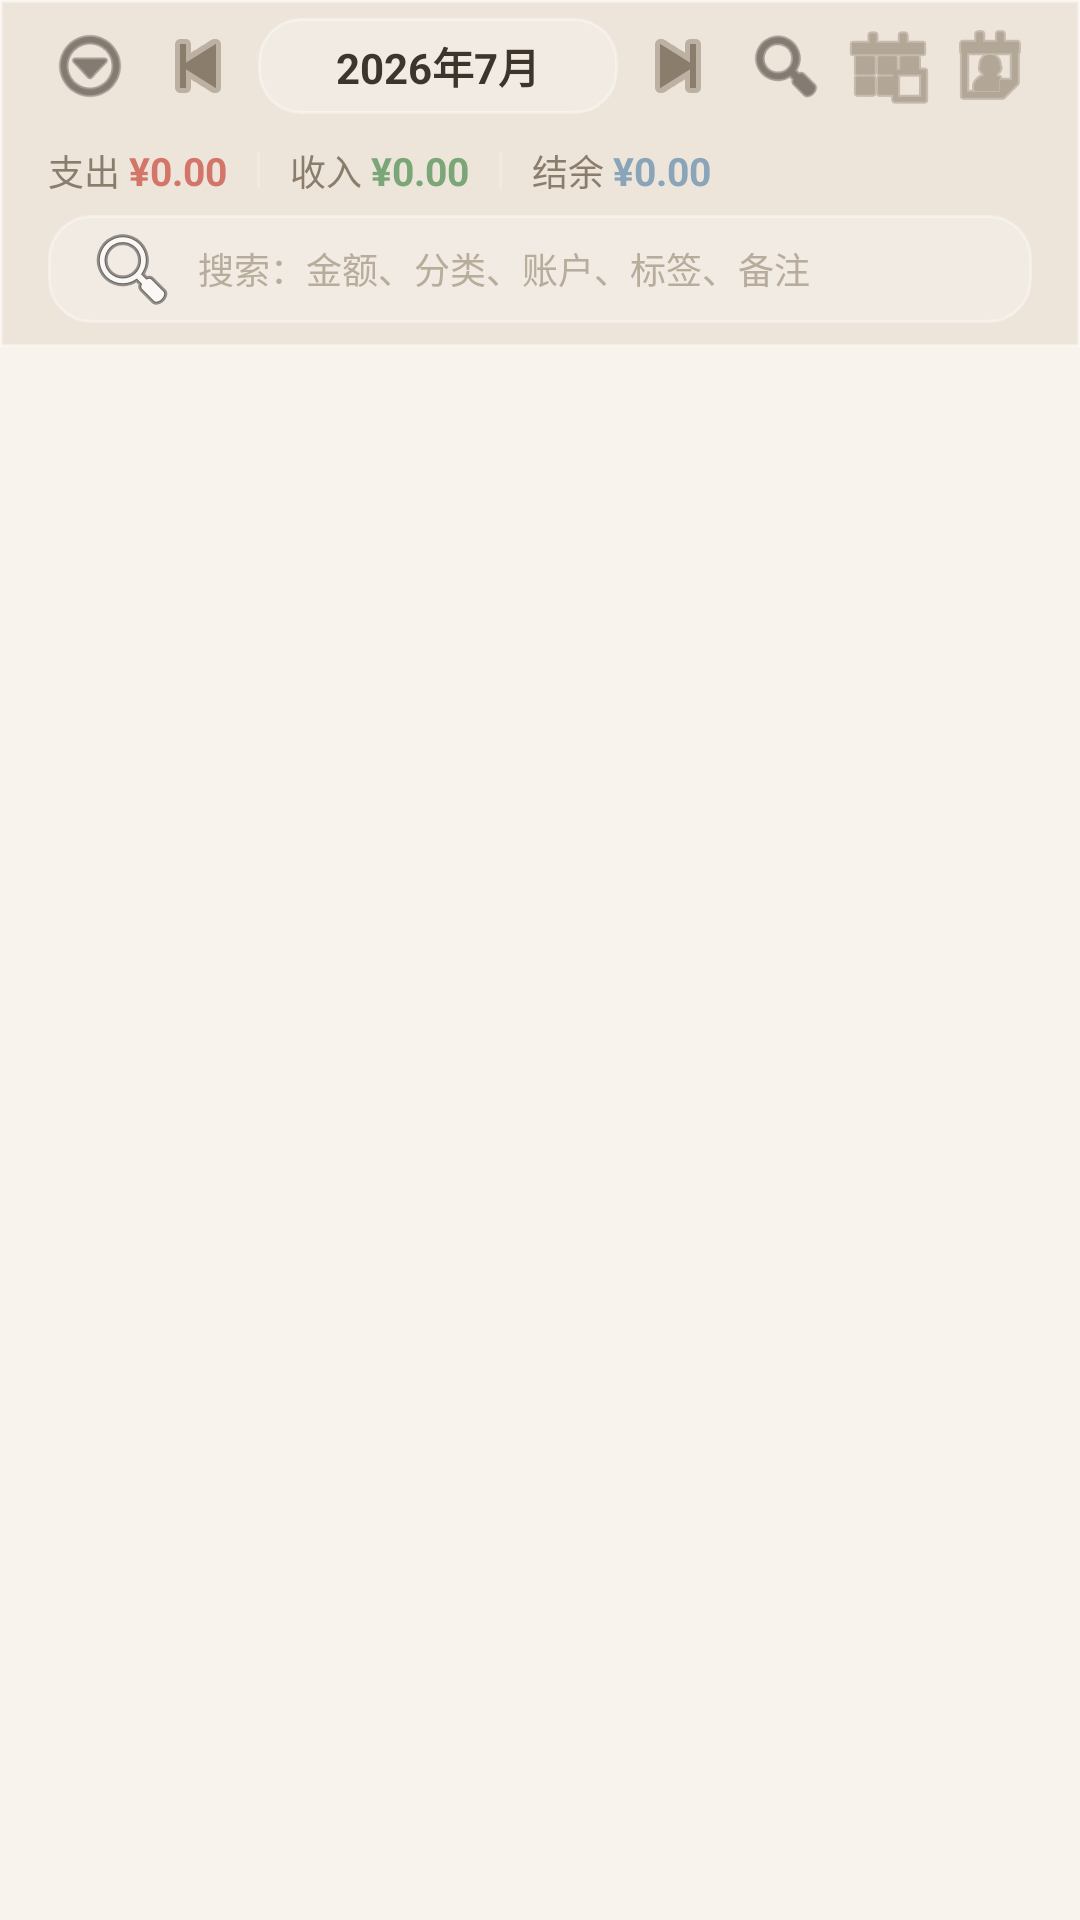

Where icons sit on this 1080×1920 app screen, as detection(x1, y1, x2, y2):
more: detection(59, 35, 121, 97)
next: detection(655, 39, 701, 93)
previous: detection(175, 39, 221, 93)
search: detection(755, 35, 817, 98)
